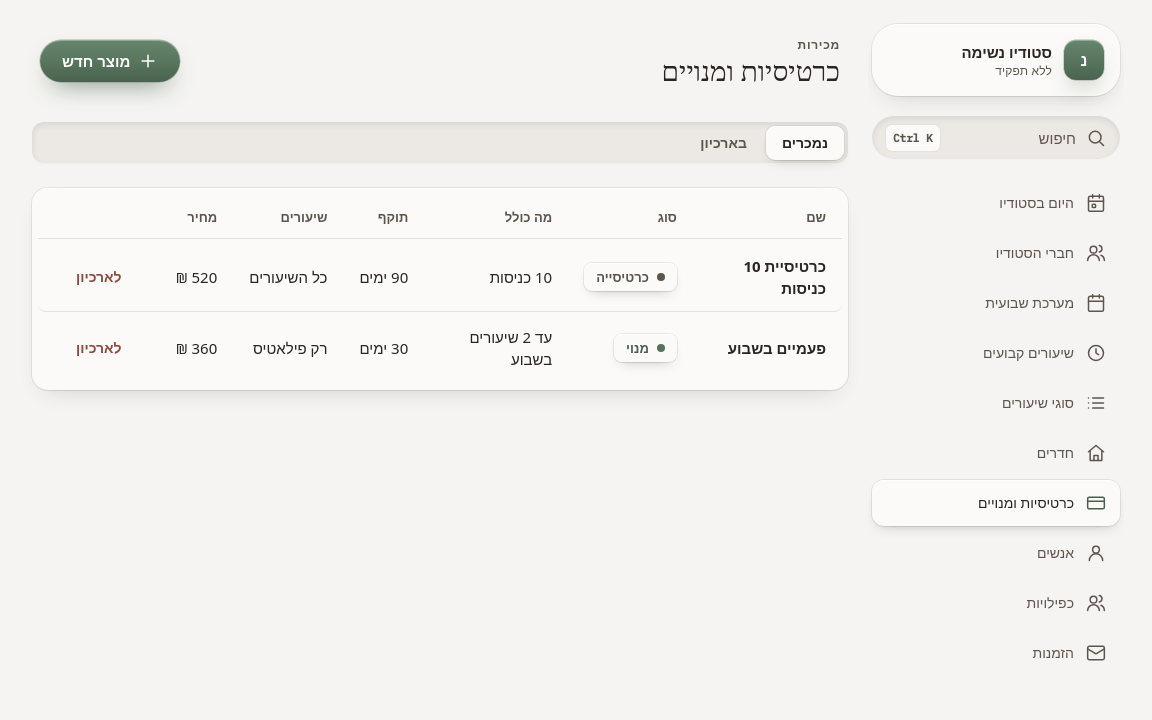
Test case: pass products › archives a product after a confirmation
Click the button with aria-label "העברת כרטיסיית 10 כניסות לארכיון" at (99, 277), box [54, 260, 144, 294]
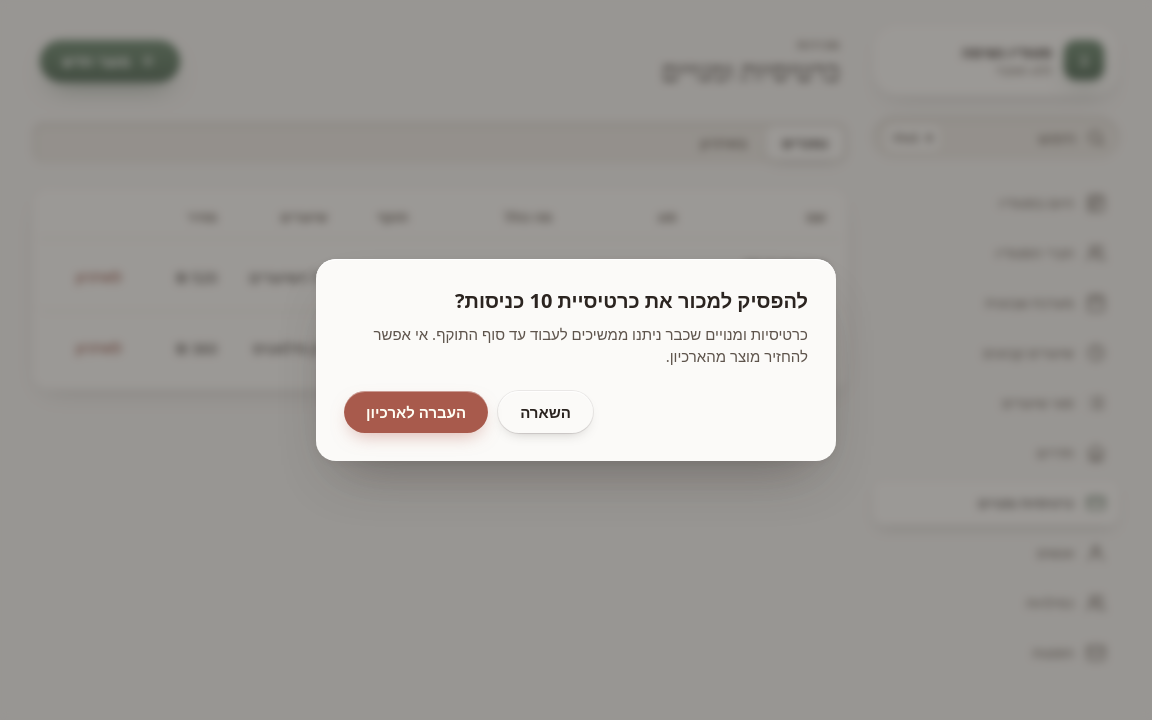
Click the button "העברה לארכיון" at (416, 412), box [344, 391, 488, 433]
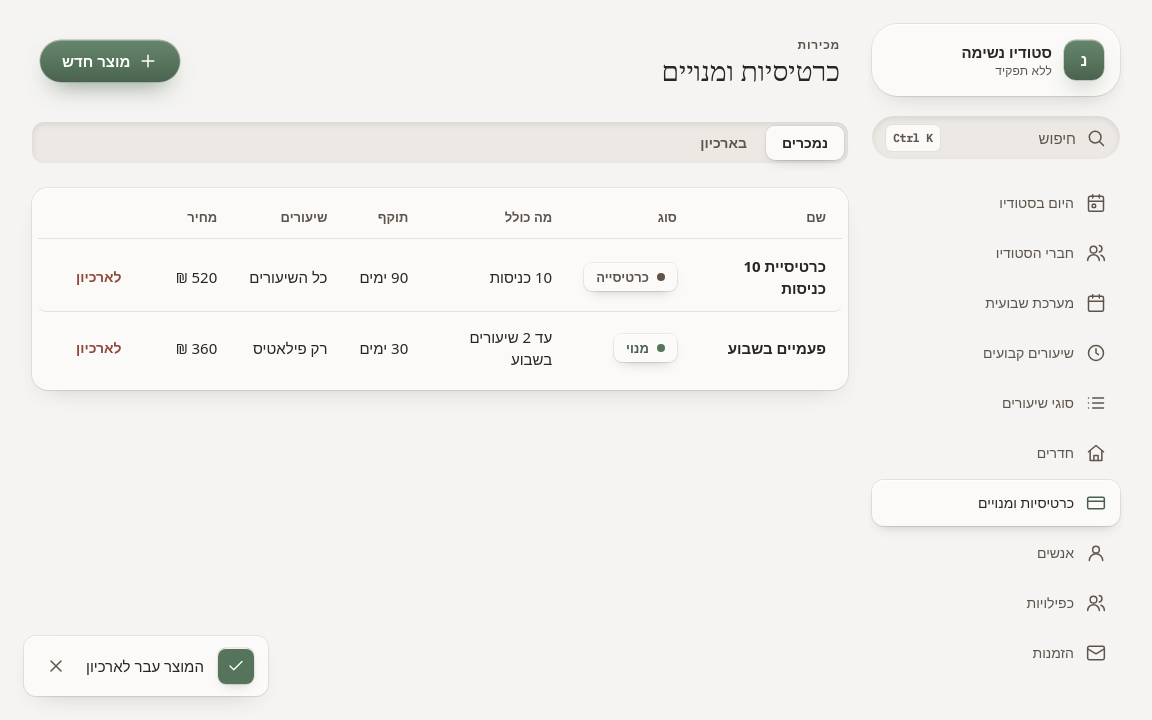
Now the text "המוצר עבר לארכיון" is shown, box [86, 655, 204, 677]
